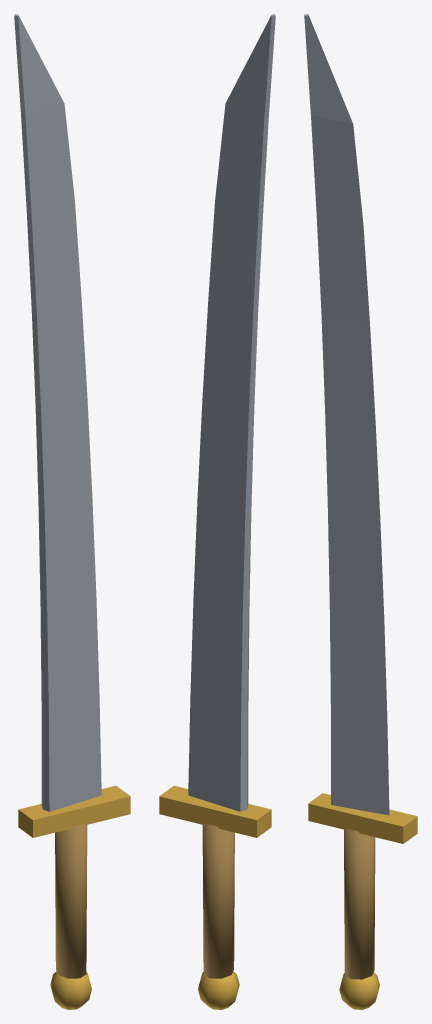
The model's file is counterpart.glb.
3 renders of one model, left to right at view 1: azimuth 30°, elevation 25°; view 2: azimuth 150°, elevation 25°; view 3: azimuth 330°, elevation 25°, orthographic. The views are drawn at different scales.
Parts seen in each view (by area): view 1: Counterpart; view 2: Counterpart; view 3: Counterpart.
Part boxes in pixels (bbox=[...]): Counterpart: bbox=[14, 14, 130, 1009]; Counterpart: bbox=[159, 14, 275, 1009]; Counterpart: bbox=[304, 14, 417, 1009].
Bounding box in the file's own units: 0.1285 × 1.13 × 0.044.
